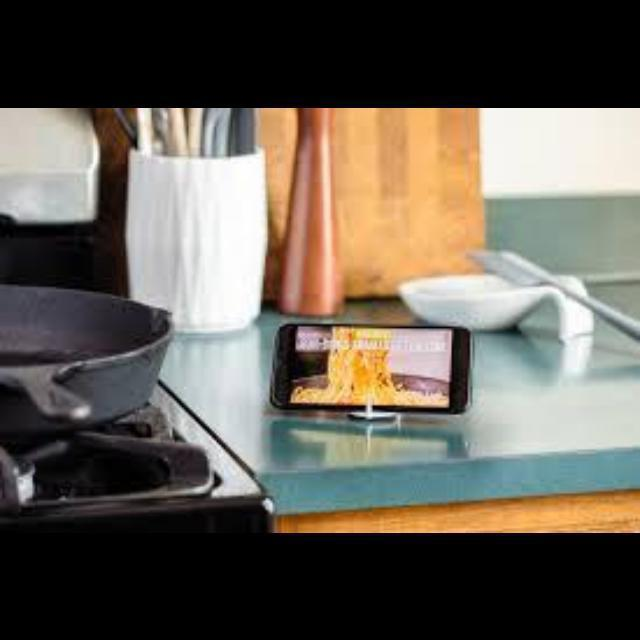phone: (275, 310, 485, 440)
